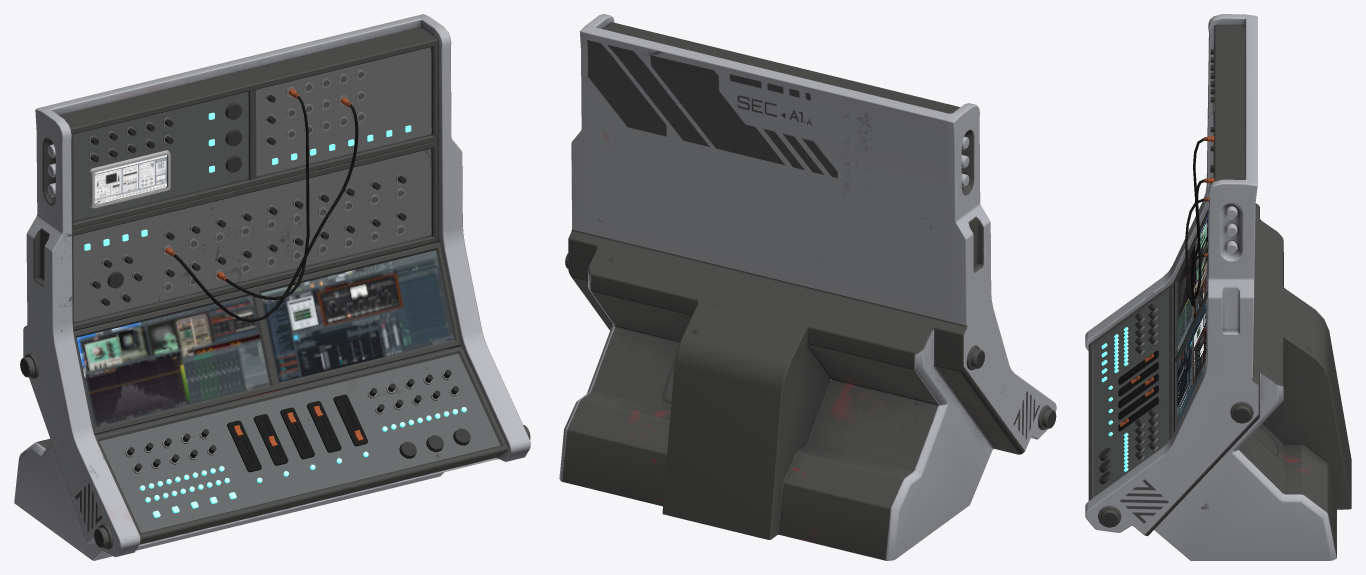
File: sci-fi_synth_machine 1.glb
3 renders of one model, left to right at view 1: azimuth 30°, elevation 25°; view 2: azimuth 150°, elevation 25°; view 3: azimuth 270°, elevation 25°, orthographic. The views are drawn at different scales.
Visible parts, largest first — view 1: Object_3, Object_4, Object_2; view 2: Object_4, Object_3; view 3: Object_4, Object_3, Object_2.
Part boxes in pixels (<box>): Object_3: <box>59,27,508,544</box>; Object_4: <box>14,14,530,560</box>; Object_2: <box>84,69,470,517</box>; Object_4: <box>559,14,1056,560</box>; Object_3: <box>602,22,960,113</box>; Object_4: <box>1085,14,1351,560</box>; Object_3: <box>1088,25,1244,500</box>; Object_2: <box>1098,49,1214,484</box>.
Bounding box in the file's own units: 1.09 × 1.06 × 0.6567.
Materials: 2 (2 with a texture image).
